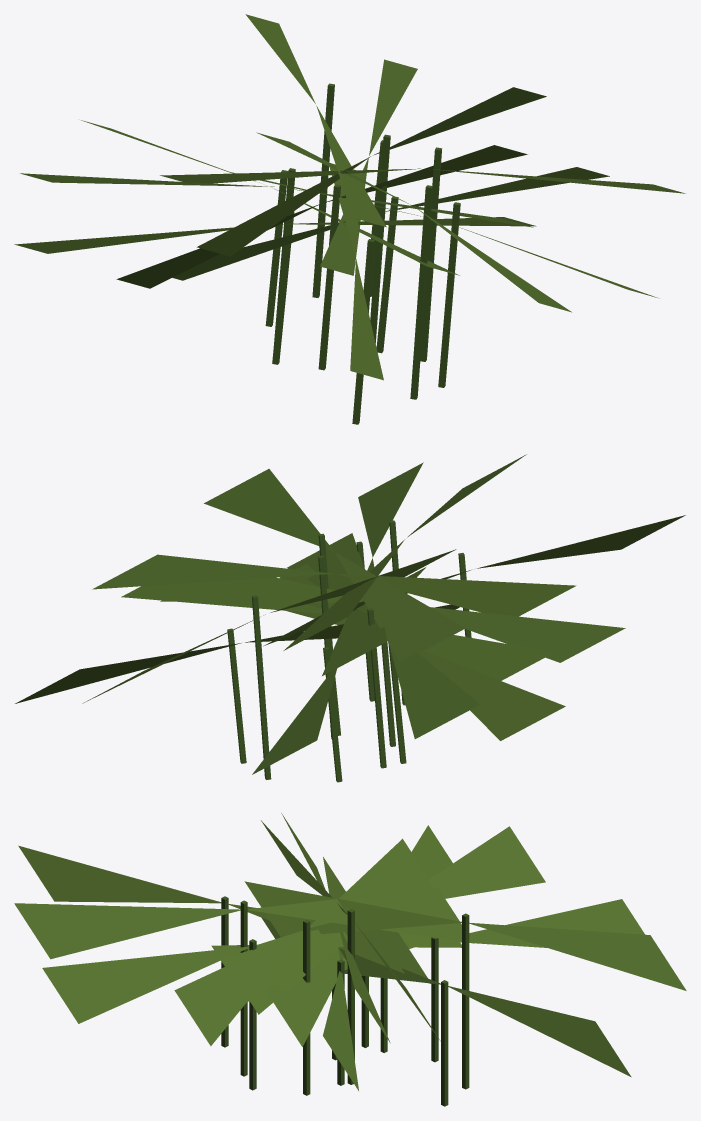
Rendered from nipa-near.glb.
3 renders of one model, top to bottom at view 1: azimuth 30°, elevation 25°; view 2: azimuth 150°, elevation 25°; view 3: azimuth 270°, elevation 25°, orthographic. The views are drawn at different scales.
Parts seen in each view (by area): view 1: nipa-near; view 2: nipa-near; view 3: nipa-near.
Part boxes in pixels (x1,y1,x2,y2): nipa-near: (14, 14, 685, 424); nipa-near: (15, 454, 685, 782); nipa-near: (14, 813, 686, 1106).
Bounding box in the file's own units: 3.64 × 1.3 × 4.43.
